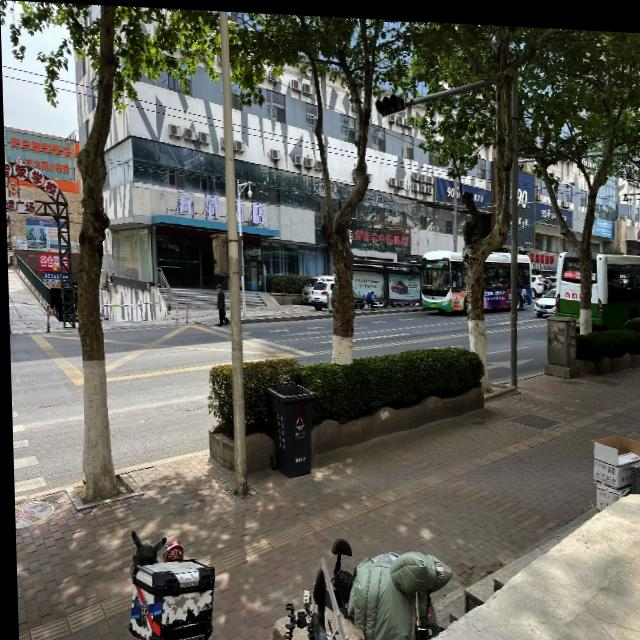garbage_bin: (266, 376, 316, 476)
